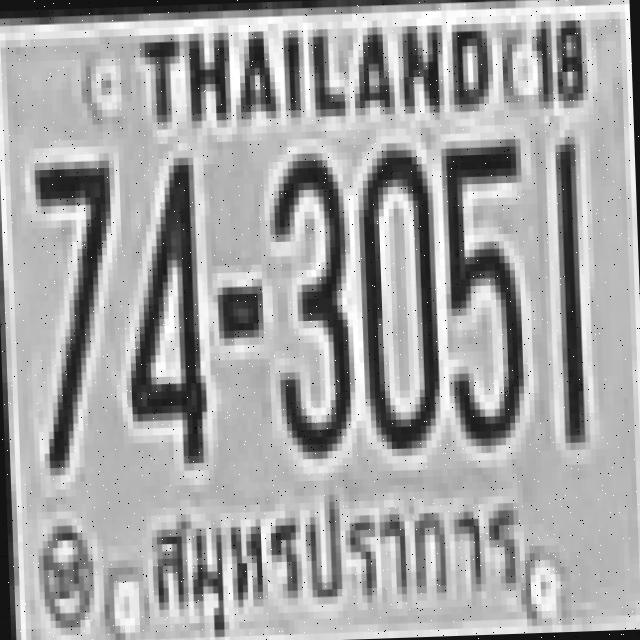0: (357, 144, 442, 452)
1: (550, 136, 584, 428)
3: (268, 150, 354, 458)
4: (122, 154, 207, 462)
5: (442, 143, 527, 443)
7: (29, 154, 119, 462)
SamutPrakan: (140, 487, 526, 638)
